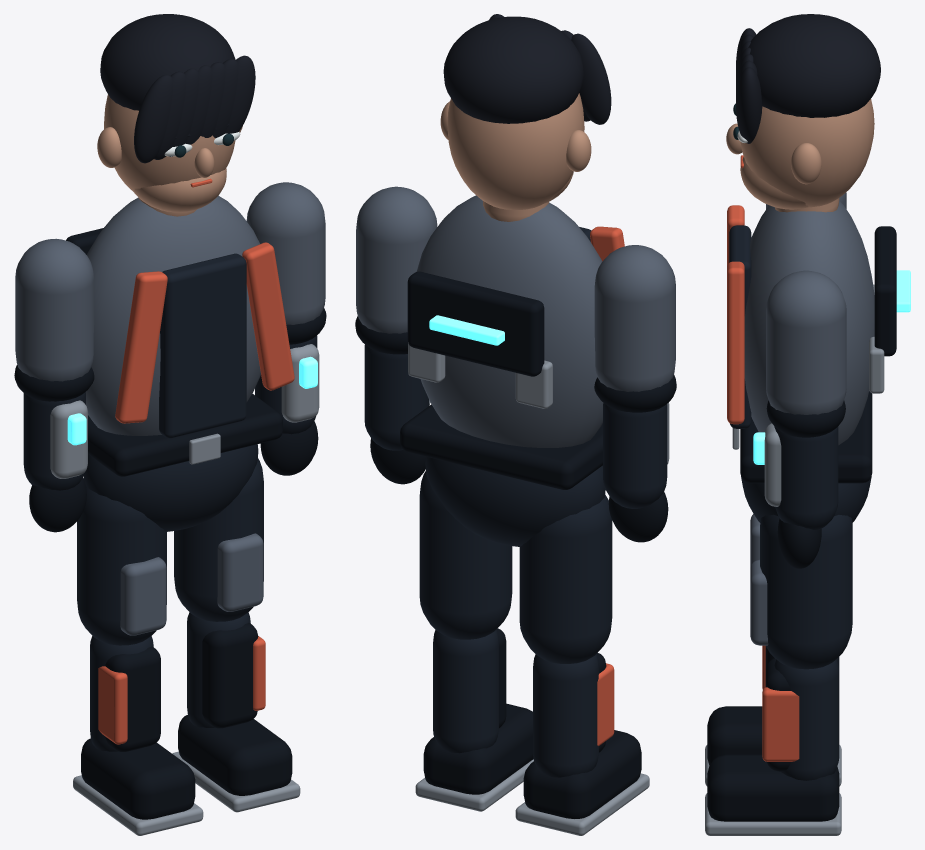
The model's file is operator.glb.
3 renders of one model, left to right at view 1: azimuth 30°, elevation 25°; view 2: azimuth 150°, elevation 25°; view 3: azimuth 270°, elevation 25°, orthographic. The views are drawn at different scales.
Parts seen in each view (by area): view 1: torso, head, shin_right, shin_left, pelvis, arm_left, leg_left, leg_right, arm_right, forearm_left, forearm_right; view 2: torso, head, shin_left, pelvis, shin_right, leg_left, arm_left, leg_right, arm_right, forearm_left, forearm_right; view 3: head, torso, shin_right, arm_right, leg_right, forearm_right, pelvis, shin_left, leg_left.
Part boxes in pixels (x1,y1,x2,y2): torso: (66, 196, 294, 438); head: (97, 14, 255, 212); shin_right: (172, 612, 300, 812); shin_left: (73, 636, 203, 835); pelvis: (83, 393, 282, 531); arm_left: (14, 238, 94, 401); leg_left: (77, 486, 166, 645); leg_right: (174, 458, 263, 621); arm_right: (246, 182, 326, 344); forearm_left: (23, 392, 87, 532); forearm_right: (255, 336, 319, 475); torso: (407, 195, 624, 447); head: (440, 14, 611, 210); shin_left: (515, 652, 649, 835); pelvis: (400, 404, 605, 546); shin_right: (415, 628, 533, 811); leg_left: (519, 494, 612, 663); arm_left: (594, 245, 676, 412); leg_right: (419, 471, 512, 639); arm_right: (355, 186, 437, 354); forearm_left: (603, 402, 669, 542); forearm_right: (364, 345, 430, 484); head: (726, 14, 880, 209); torso: (727, 198, 910, 445); shin_right: (705, 658, 841, 835); arm_right: (766, 270, 846, 437); leg_right: (750, 514, 852, 669); forearm_right: (753, 423, 838, 568); pelvis: (732, 391, 872, 522); shin_left: (705, 645, 841, 786); leg_left: (750, 514, 852, 567).
Bounding box in the file's own units: 0.81 × 1.94 × 0.4675.
